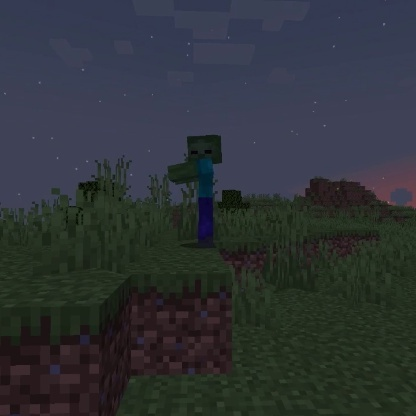zombie: (164, 132, 227, 252)
